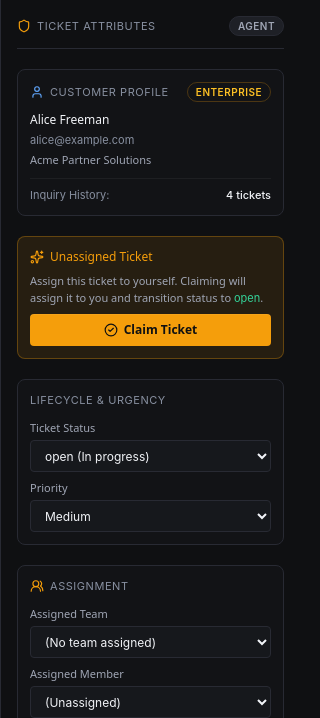
it: Ticket field conflict recovery › uses the Priority revision despite an unrelated Ticket Status change and can accept a same-field conflict
This screenshot has width=320, height=718.
Select "Low" in the dropdown labelled "Priority" at (150, 516), box [30,500,271,532]
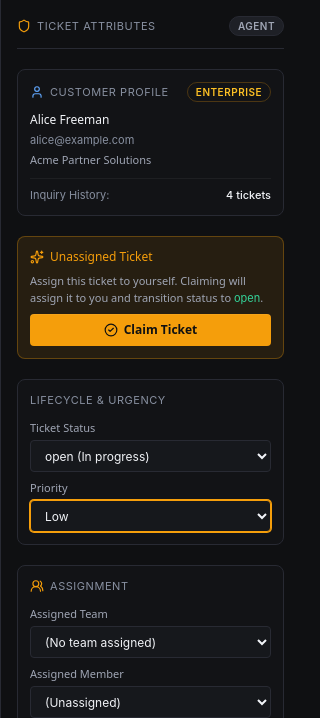
Check: the button "Retry my change" is not shown
Select "P0 Urgent" in the dropdown labelled "Priority" at (150, 516), box [30,500,271,532]
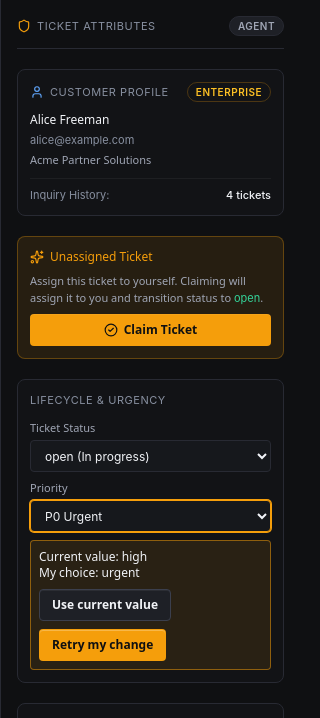
Check: the text "Current value: high" is shown, box [39,548,147,565]
Click the button "Use current value" at (105, 605), box [39,589,171,621]
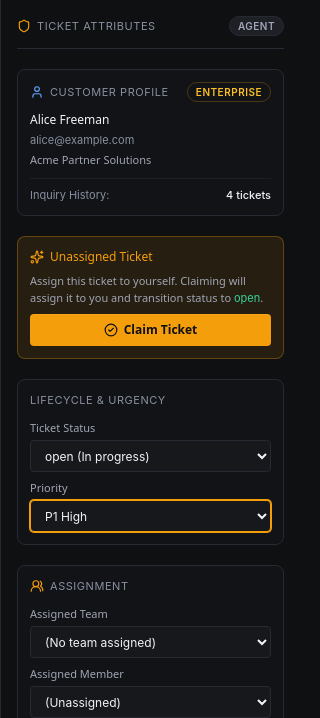
Check: the text "Current value: high" is gone
